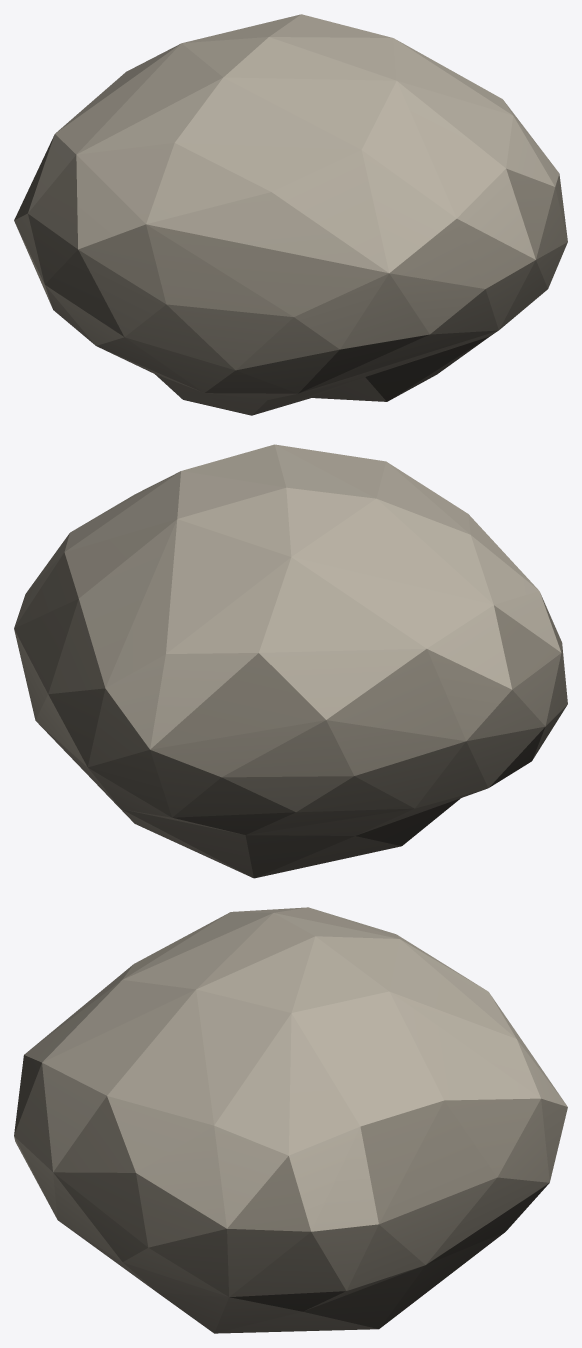
Rendered from rock_small_a.glb.
The picture shows the model from 3 angles, top to bottom: view 1: azimuth 30°, elevation 25°; view 2: azimuth 150°, elevation 25°; view 3: azimuth 270°, elevation 25°; orthographic projection. The views are drawn at different scales.
Parts seen in each view (by area): view 1: Body; view 2: Body; view 3: Body.
Part boxes in pixels (x1,y1,x2,y2): Body: (14,14,567,415); Body: (14,444,567,878); Body: (14,907,567,1333).
Size of the model in its own units: 0.409 by 0.2642 by 0.3918.
Materials: 1 (1 with a texture image).
